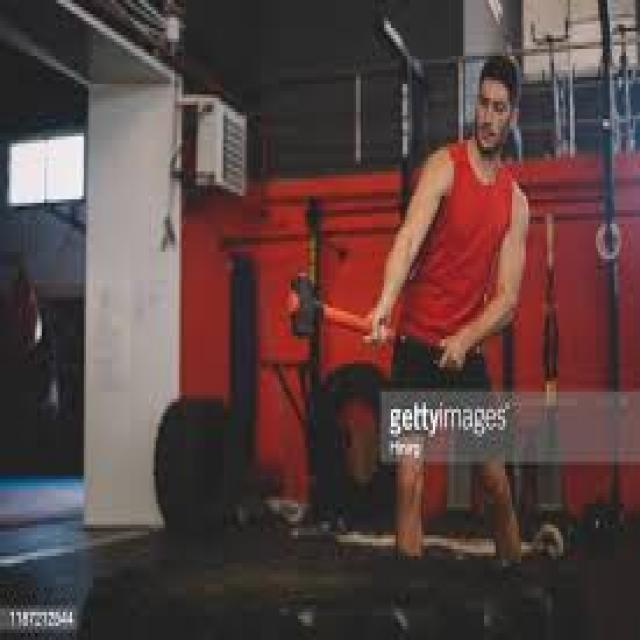hammer: (276, 267, 441, 383)
